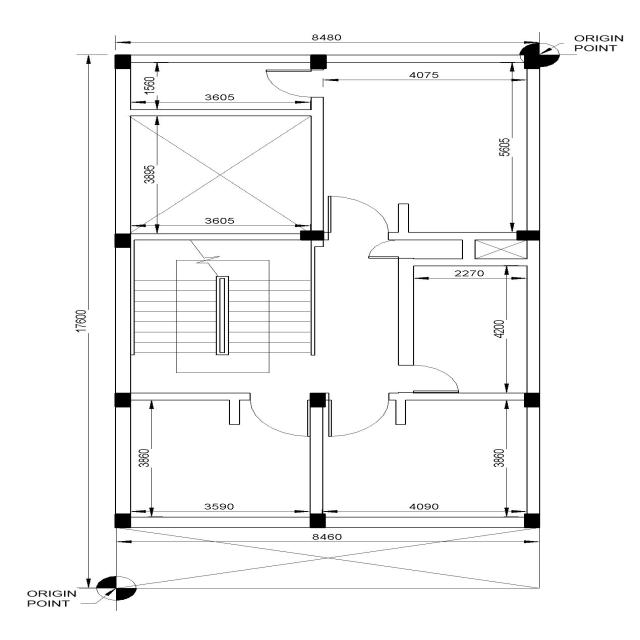Column: (114, 392, 132, 408), (524, 54, 540, 69), (115, 233, 131, 248), (300, 230, 324, 240), (115, 54, 131, 69), (310, 55, 327, 69), (517, 230, 540, 240), (524, 393, 540, 407), (524, 514, 540, 528), (115, 514, 131, 528), (310, 514, 326, 528), (310, 393, 326, 407)
Door: (326, 392, 389, 437), (328, 196, 389, 240), (250, 393, 310, 437), (398, 365, 459, 393), (266, 69, 324, 98), (368, 240, 414, 259)
Staircase: (131, 240, 311, 393)
